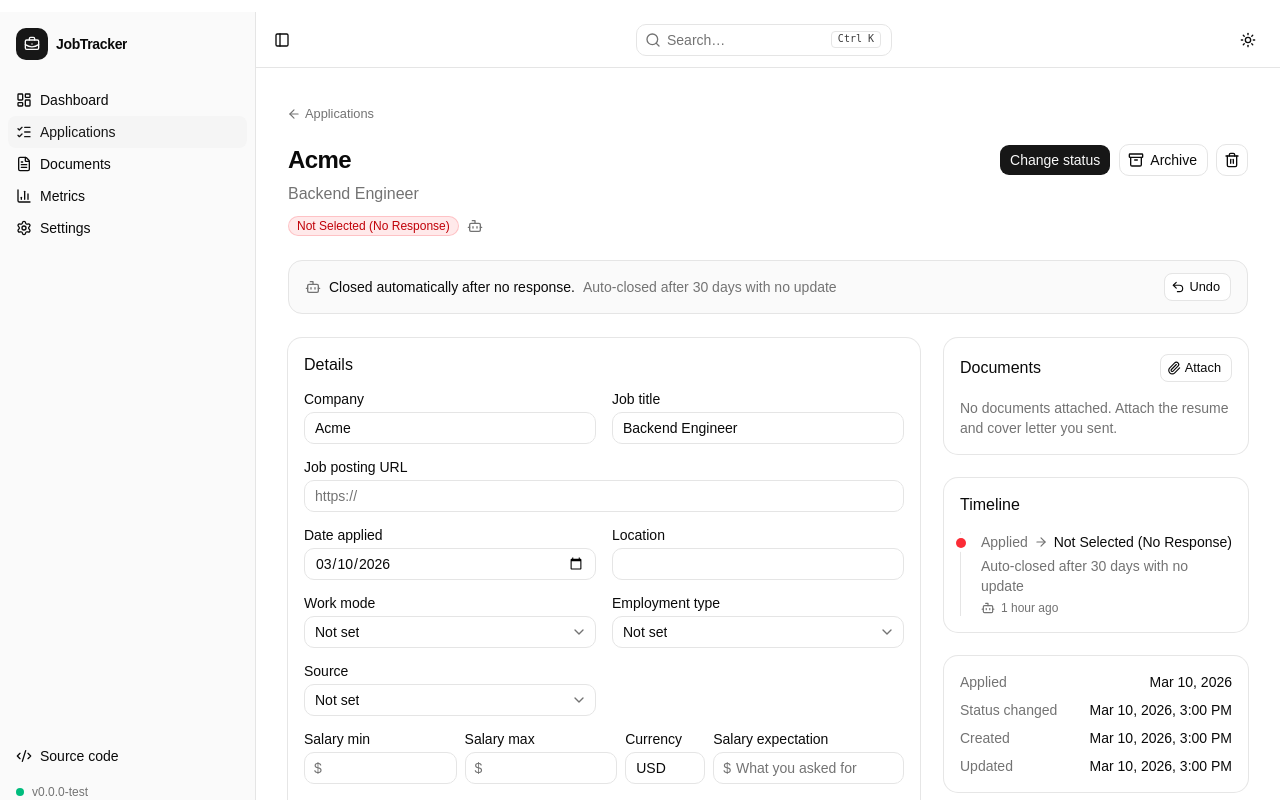
Test: Auto-close in the app › the detail page offers Undo for an auto-closed application
The image size is (1280, 800).
Expected: the text "Auto-closed after 30 days with no update" next to "Closed automatically after no response." is shown, [583, 279, 837, 295]
Click the button "Undo": x=1198, y=287 [1164, 273, 1231, 301]
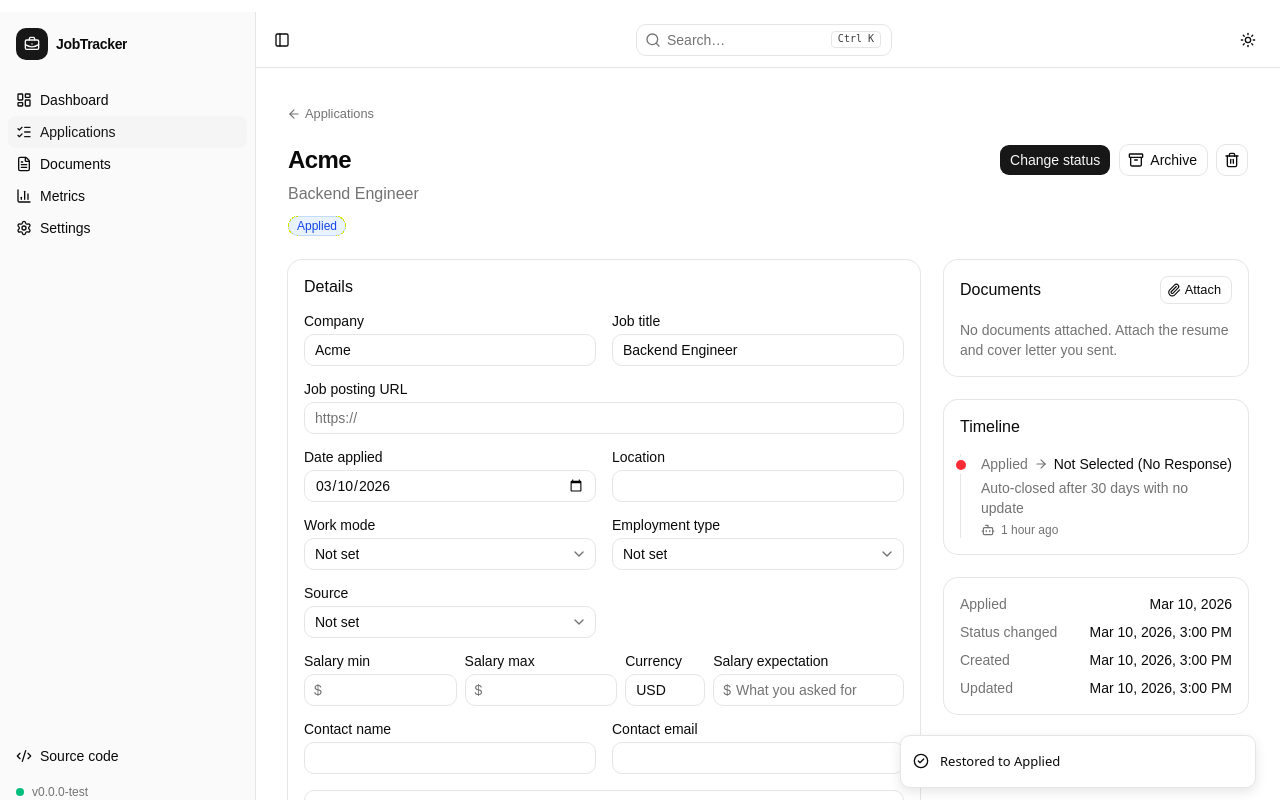
Expected: the text "Restored to Applied" is shown, [940, 752, 1060, 771]
Expected: the button "Undo" is gone
